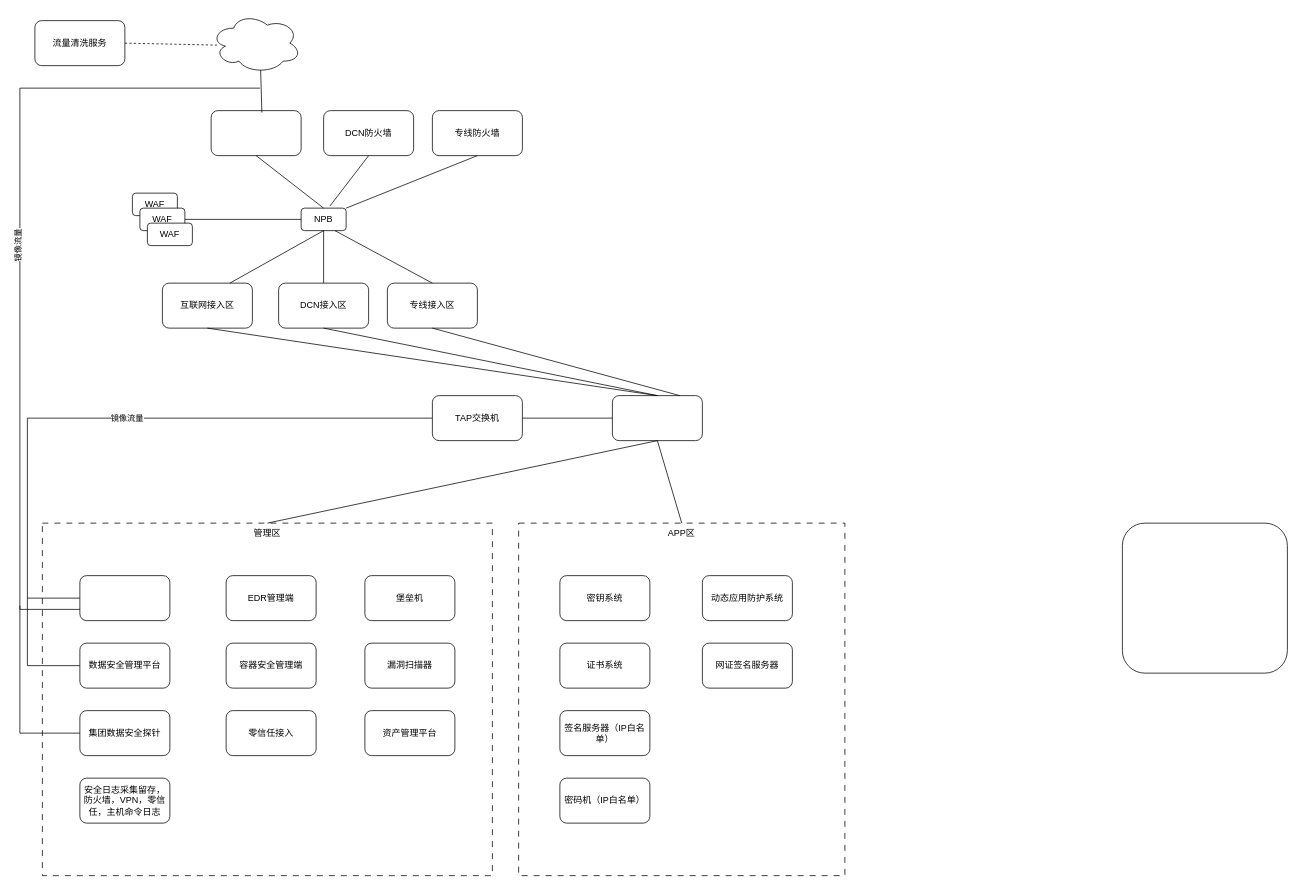
Some shapes in this 1301 by 889 pixel diagram are drawn without their labels. The shapes that lost their labels are listed below. From the top down, each one's centre as x and y in pixels, then its label:
At (255,42): "Internet".
At (255,133): "防火墙".
At (657,418): "核心交换".
At (124,598): "全流量探针".
At (1204,597): "物理机、虚拟机操作系统中，包含EDR及命令日志采集系统".
